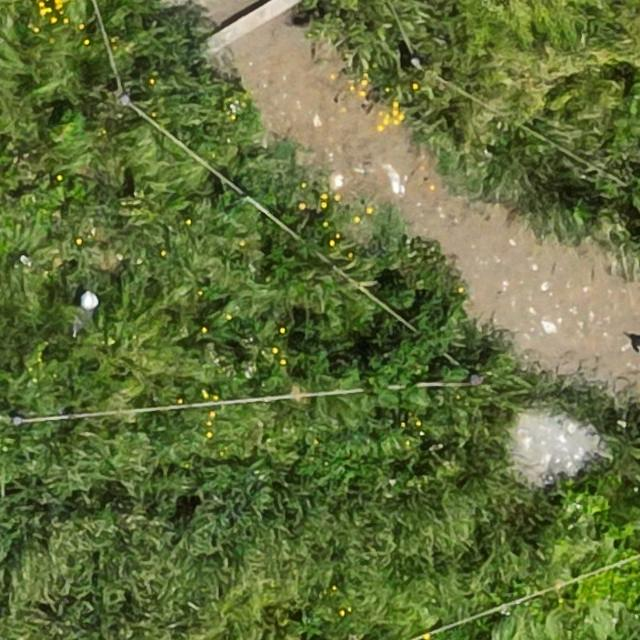umineko: (78, 291, 96, 313)
